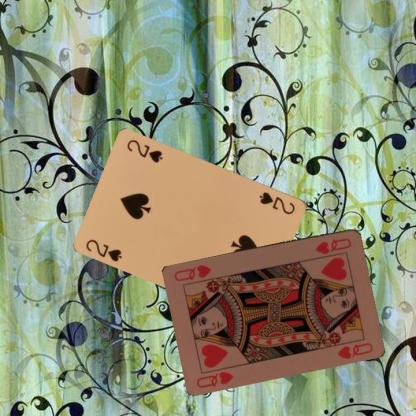2s: (83, 236, 124, 263), (257, 189, 297, 215)
Qh: (194, 368, 235, 389), (313, 235, 353, 256)
